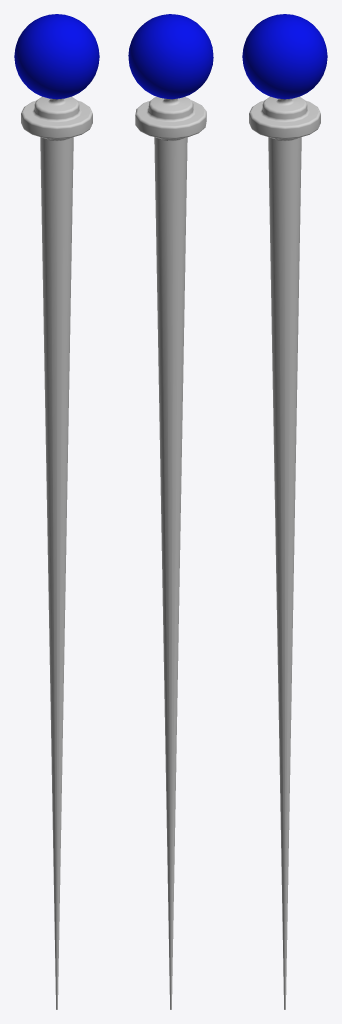
File: blue.glb
3 renders of one model, left to right at view 1: azimuth 90°, elevation 25°; view 2: azimuth 210°, elevation 25°; view 3: azimuth 270°, elevation 25°, orthographic.
Parts seen in each view (by area): view 1: Blue.001; view 2: Blue.001; view 3: Blue.001.
Boxes of the visible parts, x1,y1,x2,y2 form: Blue.001: (14,14,99,1009); Blue.001: (128,14,213,1009); Blue.001: (242,14,327,1009).
Size of the model in its own units: 0.593 by 7.6 by 0.593.
